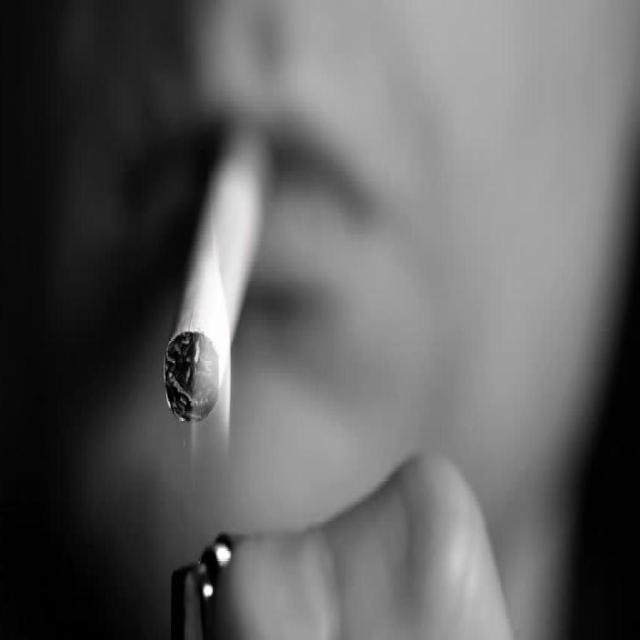smoking: (111, 2, 592, 513)
